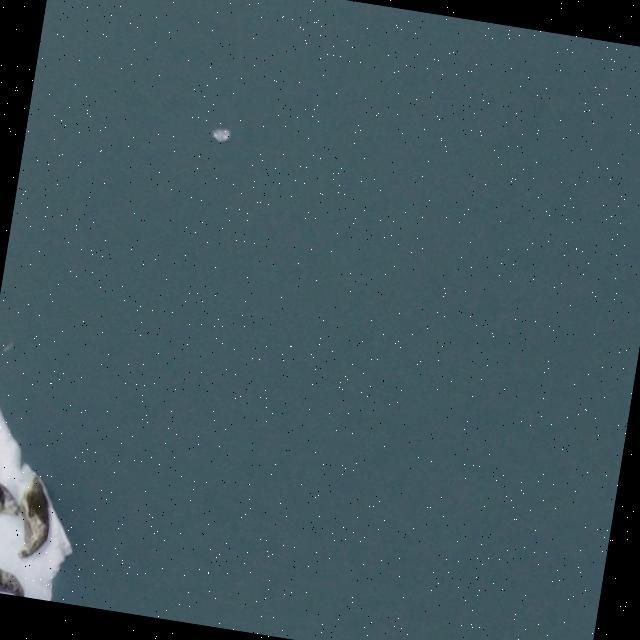seal: (19, 476, 50, 557), (0, 568, 23, 597), (0, 483, 19, 516)
